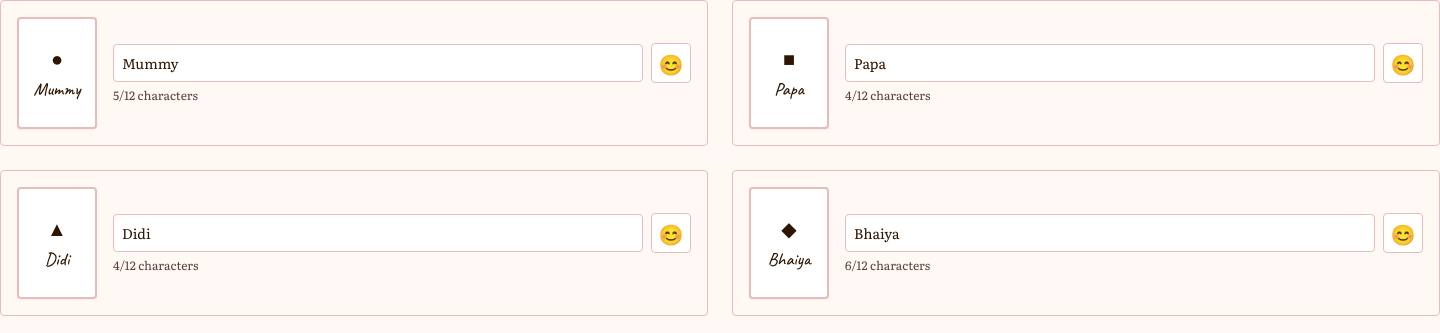
Test: LabelEditor › shows a validation error when a label is cleared
This screenshot has width=1440, height=333.
Clear the field named "Label for TYPE_1" at x=378, y=63, box [113,44,643,82]
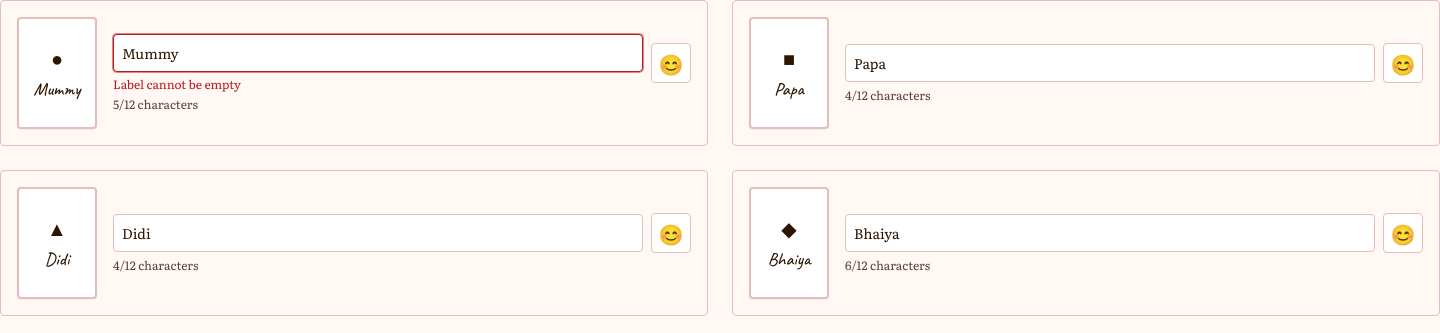
Expected: the text "Label cannot be empty" is shown, [113,75,241,93]
